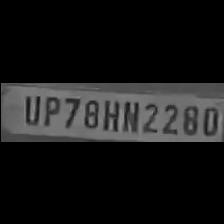0: (199, 102, 219, 136)
2: (139, 99, 159, 133), (159, 100, 179, 134)
7: (59, 94, 79, 128)
8: (78, 95, 100, 129), (180, 102, 198, 134)
H: (100, 96, 119, 130)
N: (120, 96, 138, 132)
P: (40, 93, 58, 127)
U: (18, 92, 41, 124)
